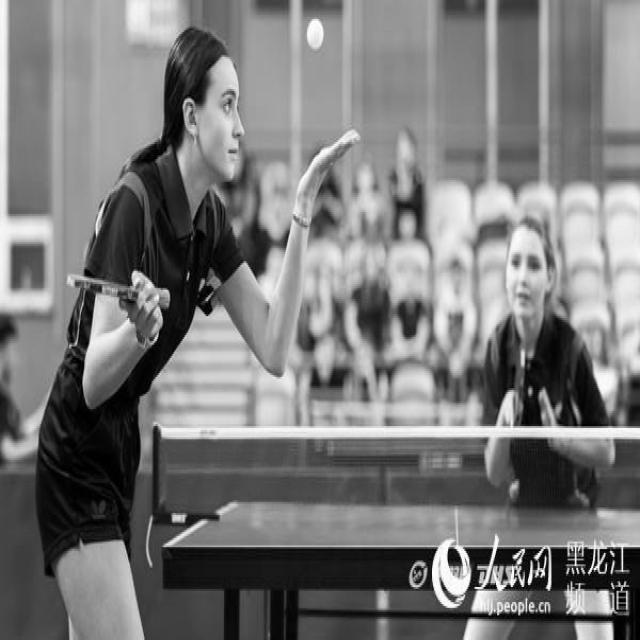ping-pong-ball: (302, 13, 326, 53)
